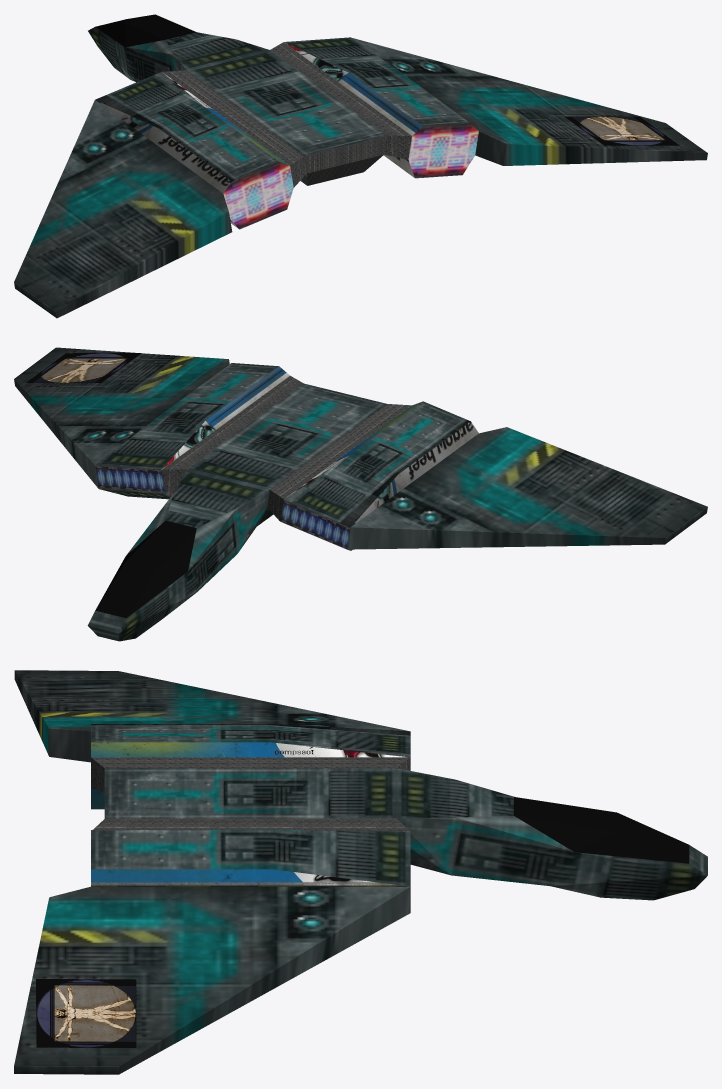
3 views of the same model, one above another, from view 1: azimuth 30°, elevation 25°; view 2: azimuth 150°, elevation 25°; view 3: azimuth 270°, elevation 25° (orthographic). The views are drawn at different scales.
Visible parts, largest first — view 1: WingB01, WingA01, B_Torna, BoosterB02, BoosterA02, glow01, glow02, HalterA01, HalterB01, Cockpit02, BoosterB01, Heck01 (+4 smaller); view 2: WingB01, WingA01, B_Torna, BoosterB02, BoosterA02, Cockpit02, Glas01, Cockpit01, HalterB01, HalterA01, BoosterB01, WingA02 (+3 smaller); view 3: WingA01, B_Torna, Cockpit02, WingB01, BoosterA02, WingA02, BoosterB02, Glas01, Cockpit01, BoosterA01, BoosterB01, HalterB01 (+1 smaller).
Boxes of the visible parts, box(x1,y1,x2,y2) form: WingB01: box(14, 100, 232, 318); WingA01: box(351, 37, 707, 165); B_Torna: box(187, 50, 386, 185); BoosterB02: box(95, 72, 278, 181); BoosterA02: box(284, 37, 469, 126); glow01: box(408, 123, 478, 178); glow02: box(223, 162, 293, 229); HalterA01: box(270, 42, 411, 159); HalterB01: box(162, 70, 306, 187); Cockpit02: box(88, 27, 186, 82); BoosterB01: box(96, 73, 289, 228); Heck01: box(304, 136, 386, 185); WingB01: box(347, 427, 707, 549); WingA01: box(14, 347, 229, 488); B_Torna: box(187, 383, 386, 526); BoosterB02: box(284, 401, 470, 527); BoosterA02: box(95, 363, 278, 499); Cockpit02: box(119, 490, 269, 641); Glas01: box(95, 520, 196, 618); Cockpit01: box(87, 469, 269, 641); HalterB01: box(267, 404, 411, 521); HalterA01: box(162, 375, 303, 493); BoosterB01: box(286, 401, 478, 550); WingA02: box(26, 353, 141, 382); WingA01: box(14, 886, 410, 1074); B_Torna: box(104, 768, 396, 818); Cockpit02: box(397, 789, 707, 900); WingB01: box(14, 670, 408, 762); BoosterA02: box(91, 830, 410, 886); WingA02: box(36, 979, 136, 1047); BoosterB02: box(91, 724, 410, 757); Glas01: box(514, 797, 689, 863); Cockpit01: box(396, 768, 707, 875); BoosterA01: box(91, 869, 408, 886); BoosterB01: box(91, 742, 407, 809); HalterB01: box(91, 757, 410, 792).
Size of the model in its own units: 70.52 by 8.95 by 52.23.
Materials: 6 (5 with a texture image).
